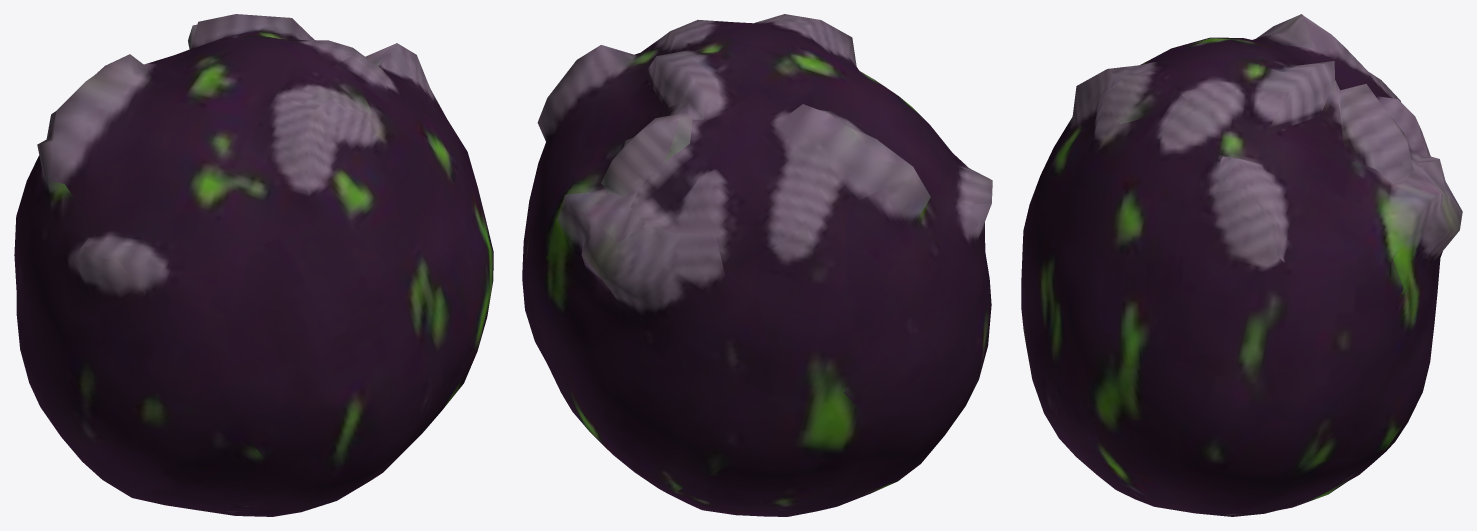
File: nest-mound-b.glb
3 views of the same model, side by side, from view 1: azimuth 30°, elevation 25°; view 2: azimuth 150°, elevation 25°; view 3: azimuth 270°, elevation 25° (orthographic).
Visible parts, largest first — view 1: Nest_Mound_B; view 2: Nest_Mound_B; view 3: Nest_Mound_B.
Boxes of the visible parts, bbox=[...] form: Nest_Mound_B: bbox=[14, 14, 493, 516]; Nest_Mound_B: bbox=[522, 14, 992, 516]; Nest_Mound_B: bbox=[1021, 14, 1462, 516].
Size of the model in its own units: 1.49 by 1.53 by 1.34.
Materials: 1 (1 with a texture image).
